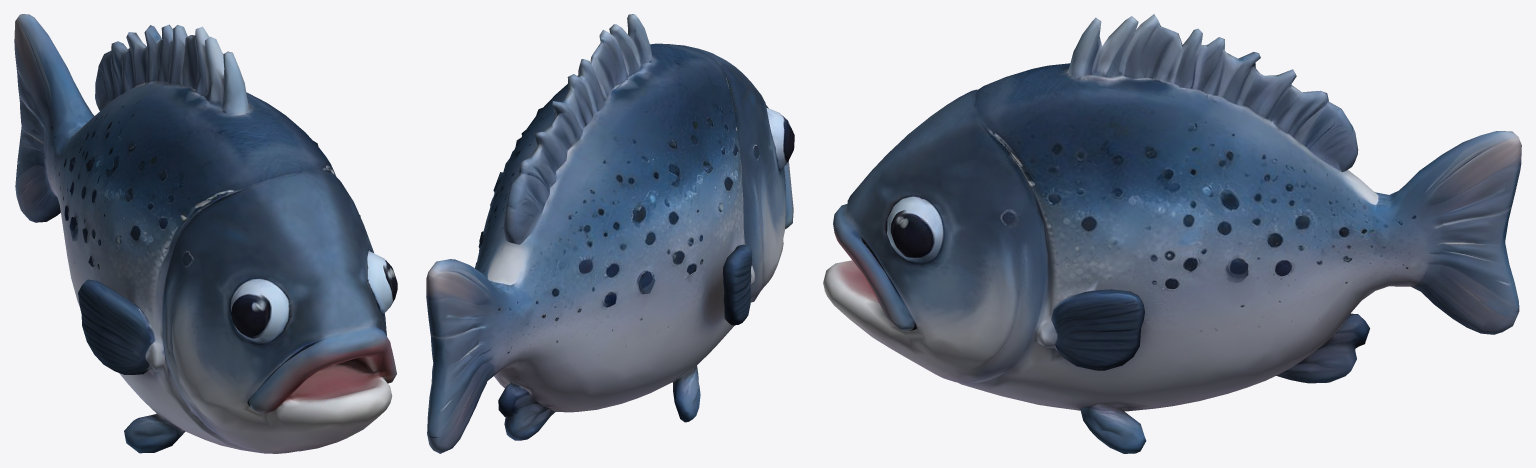
The model's file is seabass.glb.
3 renders of one model, left to right at view 1: azimuth 30°, elevation 25°; view 2: azimuth 150°, elevation 25°; view 3: azimuth 270°, elevation 25°, orthographic. The views are drawn at different scales.
Parts seen in each view (by area): view 1: tripo_node_15ba5fc4-6f06-4dfe-95ac-508ba5ea1152; view 2: tripo_node_15ba5fc4-6f06-4dfe-95ac-508ba5ea1152; view 3: tripo_node_15ba5fc4-6f06-4dfe-95ac-508ba5ea1152.
Part boxes in pixels (x1,y1,x2,y2): tripo_node_15ba5fc4-6f06-4dfe-95ac-508ba5ea1152: (14, 14, 397, 453); tripo_node_15ba5fc4-6f06-4dfe-95ac-508ba5ea1152: (426, 14, 794, 453); tripo_node_15ba5fc4-6f06-4dfe-95ac-508ba5ea1152: (823, 14, 1521, 453).
Size of the model in its own units: 0.4329 by 0.6354 by 1.
Materials: 1 (1 with a texture image).
